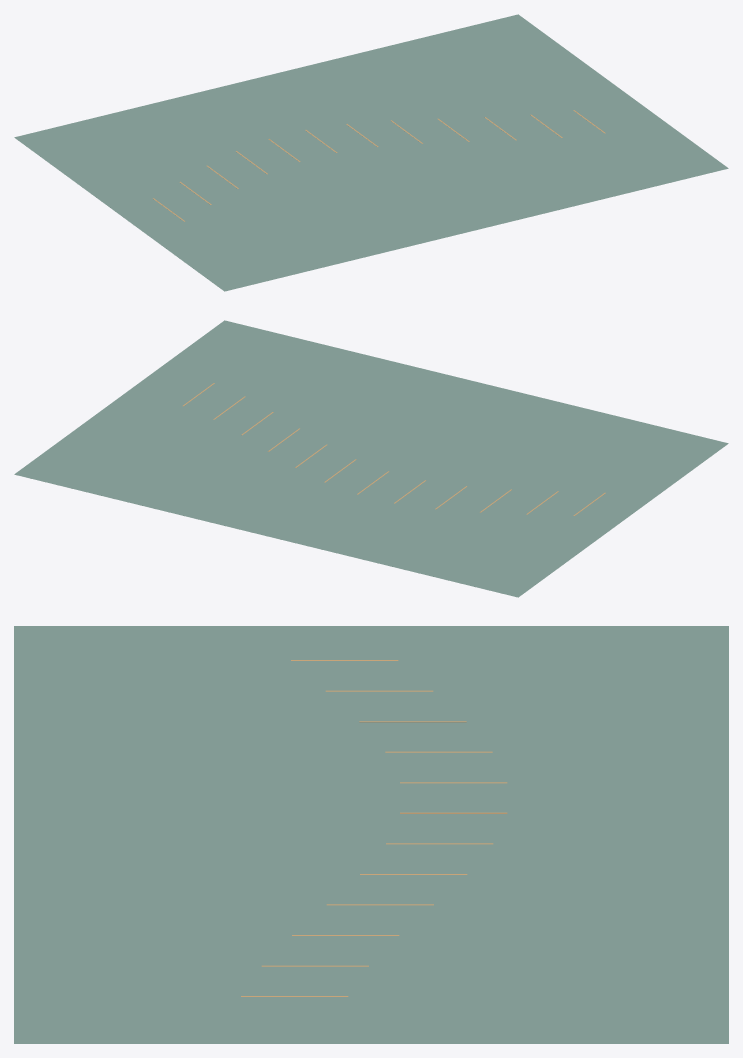
Rendered from 279_L120_L14_LayerReference.glb.
3 renders of one model, top to bottom at view 1: azimuth 30°, elevation 25°; view 2: azimuth 150°, elevation 25°; view 3: azimuth 270°, elevation 25°, orthographic. The views are drawn at different scales.
Visible parts, largest first — view 1: 0000__PSMAT__dielectric; view 2: 0000__PSMAT__dielectric; view 3: 0000__PSMAT__dielectric.
Boxes of the visible parts, bbox=[...] form: 0000__PSMAT__dielectric: bbox=[14, 14, 728, 291]; 0000__PSMAT__dielectric: bbox=[14, 320, 728, 597]; 0000__PSMAT__dielectric: bbox=[14, 626, 728, 1043].
Bounding box in the file's own units: 0.506 × 0.000136 × 0.366.
